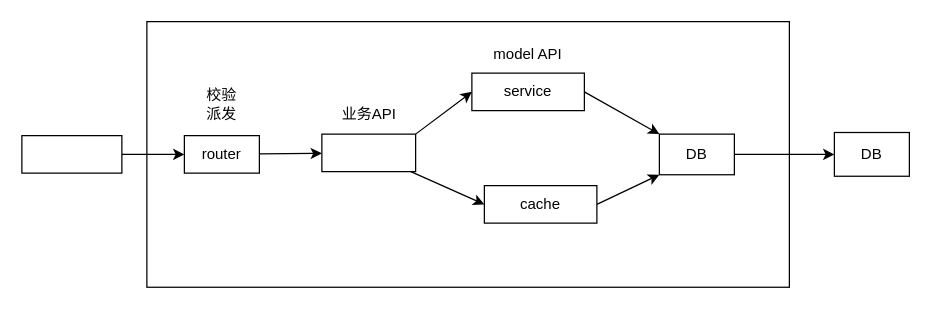
Image size: 931x310. Some labels were removed from this diagram. The shapes that lost their labels are listed below. From the top down, each one's centre as x and y in pixels, then its label:
pixel 71 153: 请求
pixel 368 152: control
